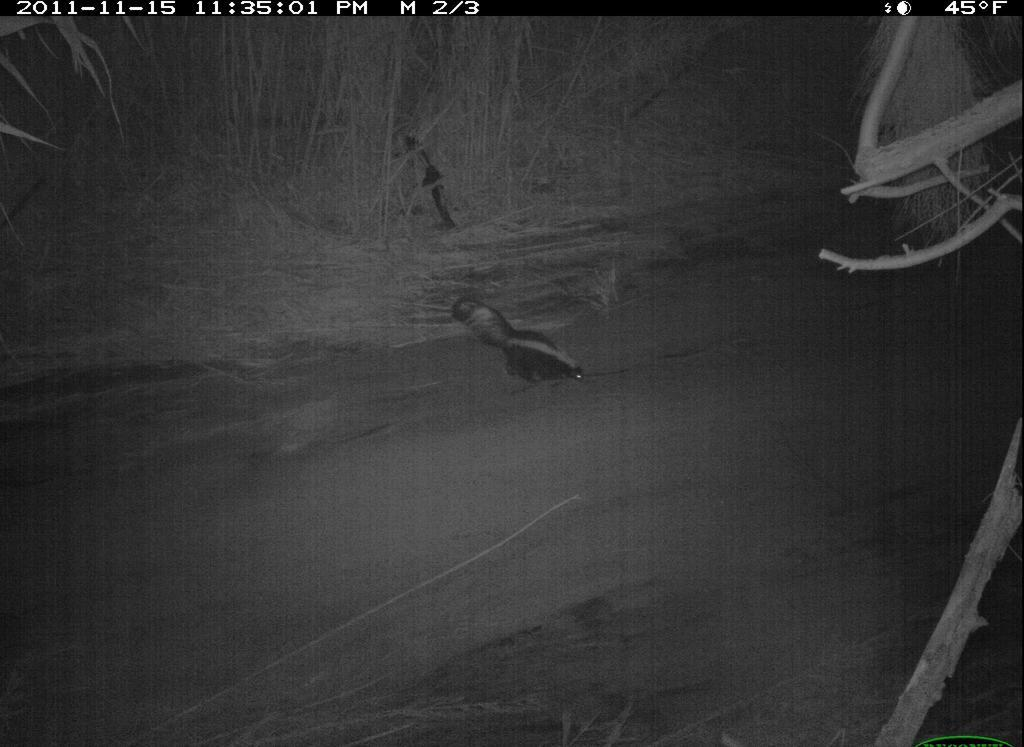skunk: (447, 290, 594, 395)
